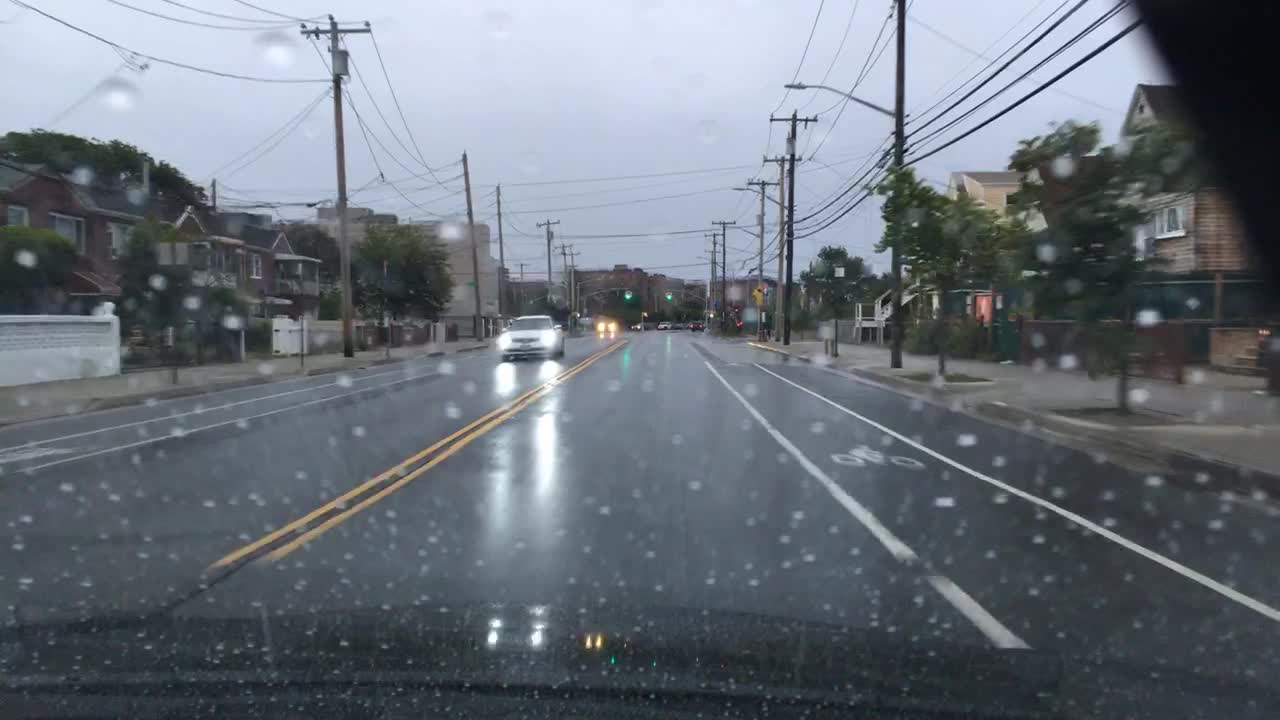car: (497, 313, 566, 362), (719, 317, 744, 333), (597, 318, 618, 333), (552, 318, 568, 333), (688, 318, 704, 331), (630, 320, 649, 330), (656, 319, 673, 330), (674, 322, 684, 330), (700, 319, 708, 328), (684, 320, 691, 329)
traffic light: (625, 289, 630, 303), (667, 289, 672, 303)
traffic sign: (832, 266, 846, 278), (751, 284, 763, 297), (466, 280, 474, 289)
